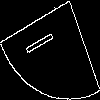I: (24, 25, 61, 57)
